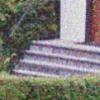stairs: (16, 38, 100, 74)
